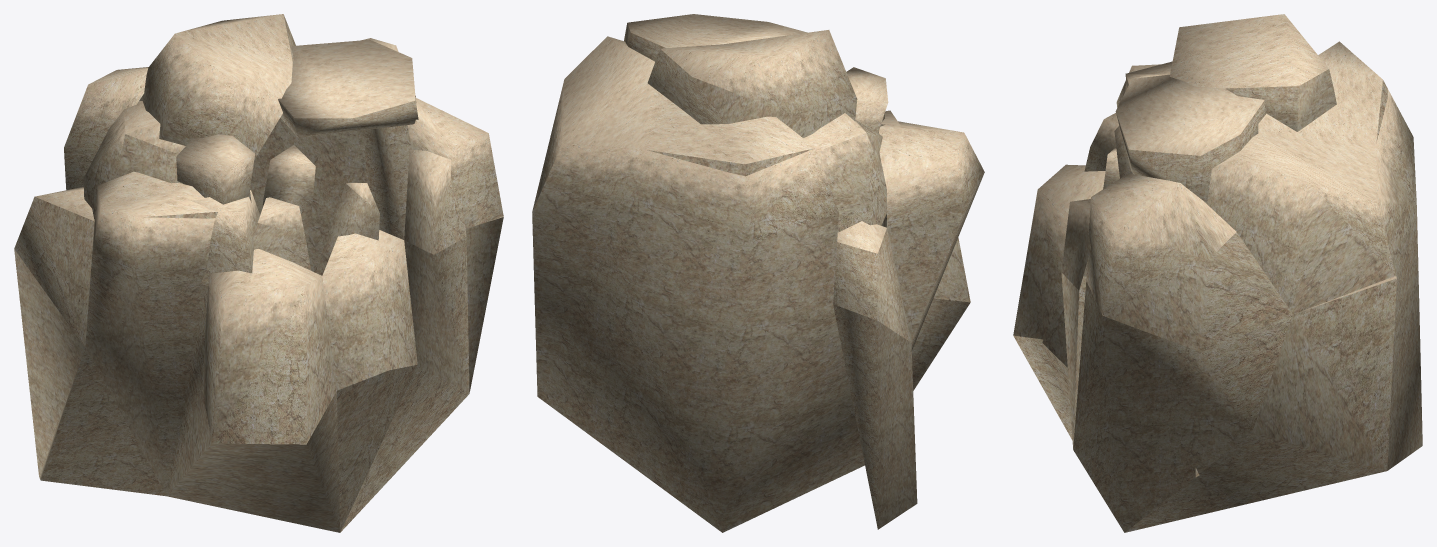
Rendered from poi_all_lair_rancor_light_large_l3.fbx.
3 views of the same model, side by side, from view 1: azimuth 30°, elevation 25°; view 2: azimuth 150°, elevation 25°; view 3: azimuth 270°, elevation 25° (orthographic). The views are drawn at different scales.
Parts seen in each view (by area): view 1: mesh_node; view 2: mesh_node; view 3: mesh_node.
Part boxes in pixels (left/top/right/bottom): mesh_node: left=14, top=14, right=503, bottom=532; mesh_node: left=532, top=14, right=984, bottom=532; mesh_node: left=1013, top=14, right=1422, bottom=532.
Bounding box in the file's own units: 33.6 × 37.85 × 29.55.
